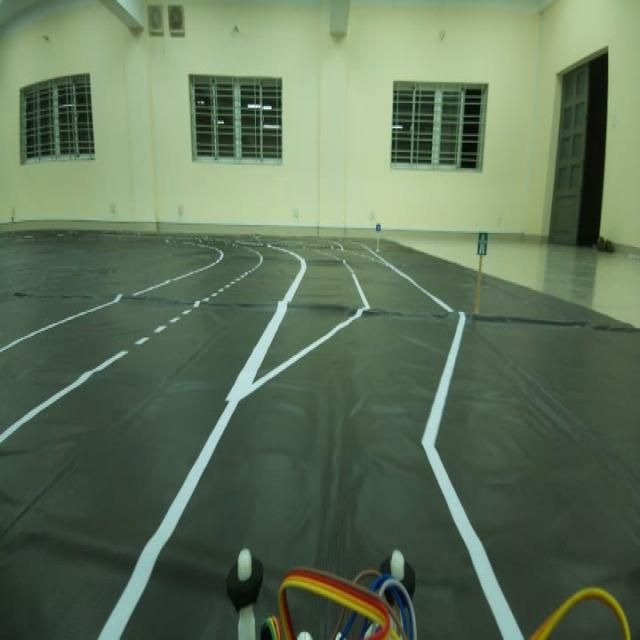highway_entry: (475, 220, 489, 260)
